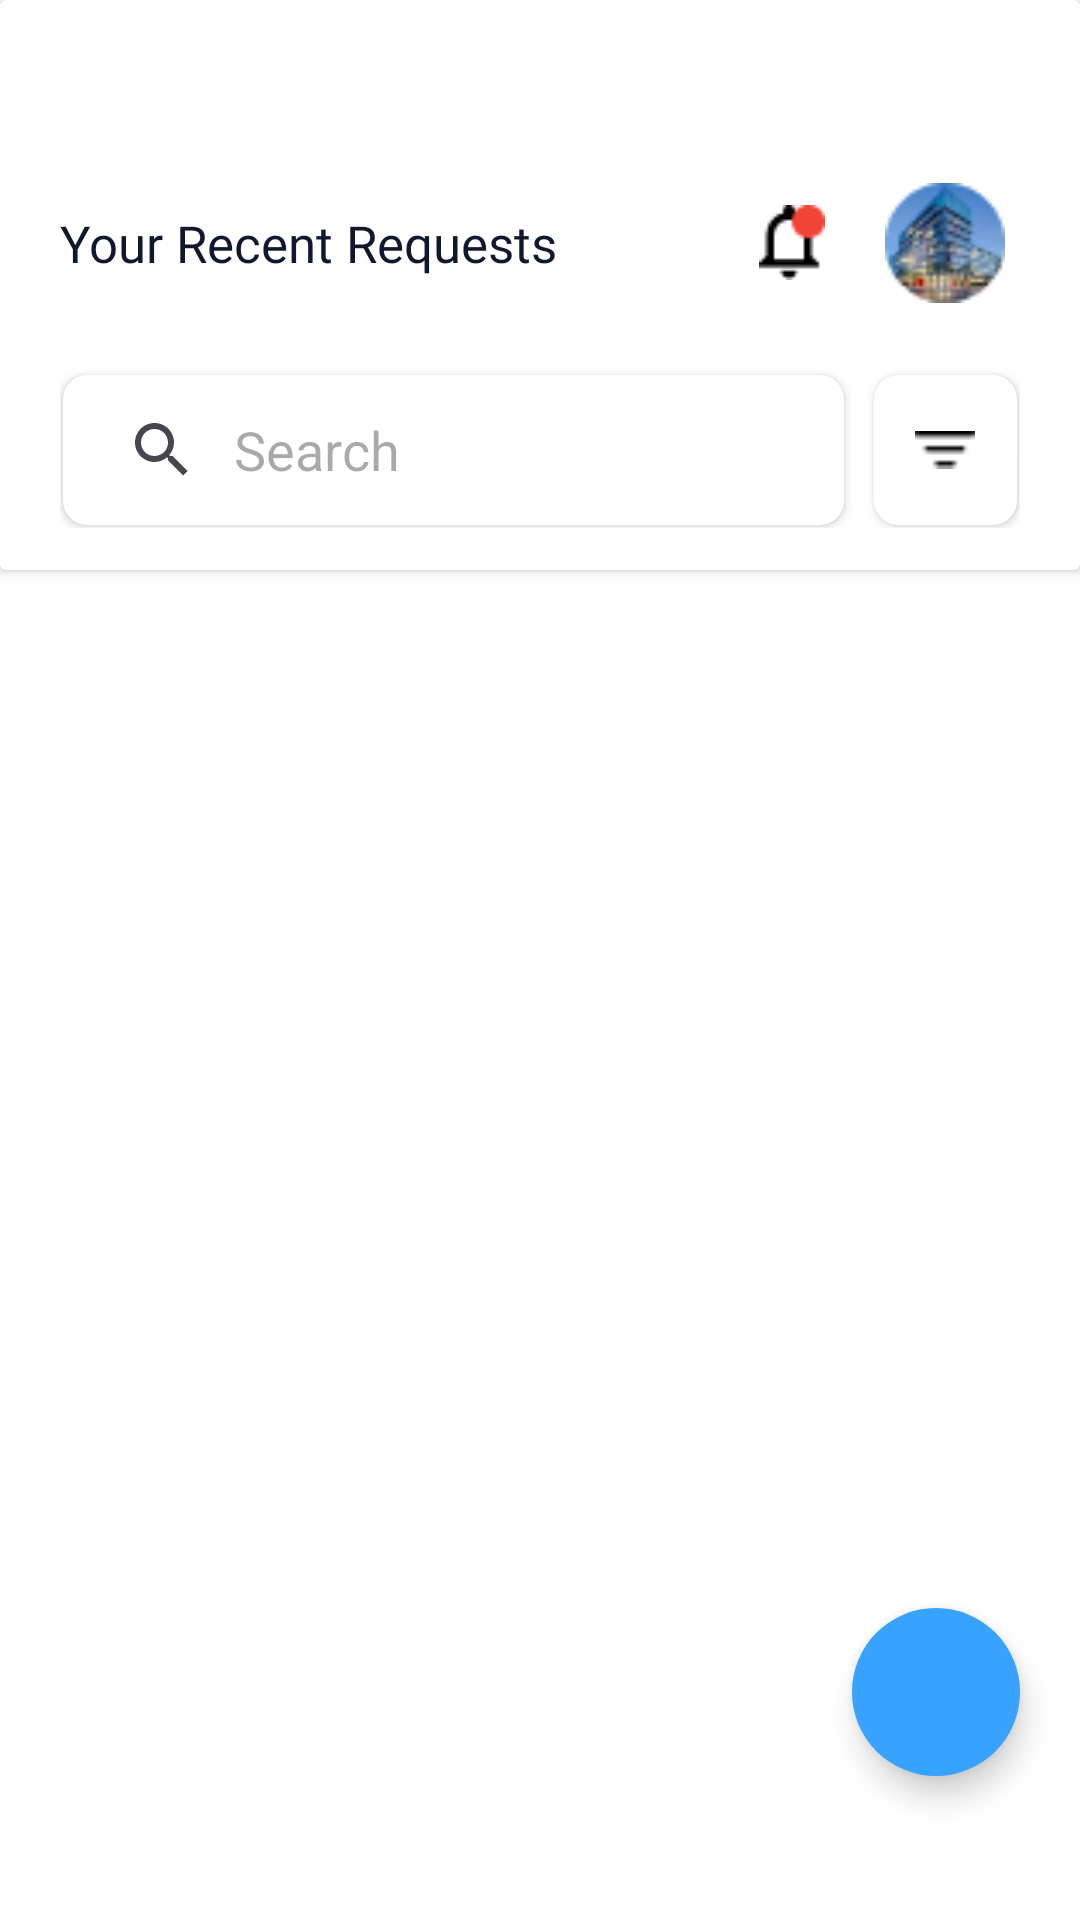

Named icons in this screenshot (1080 × 1920) and their centers, point (x, y):
bell: point (792, 242)
profile: point (945, 243)
